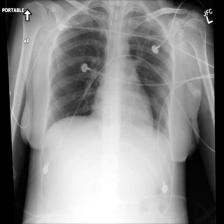normal: (47, 1, 174, 149)
